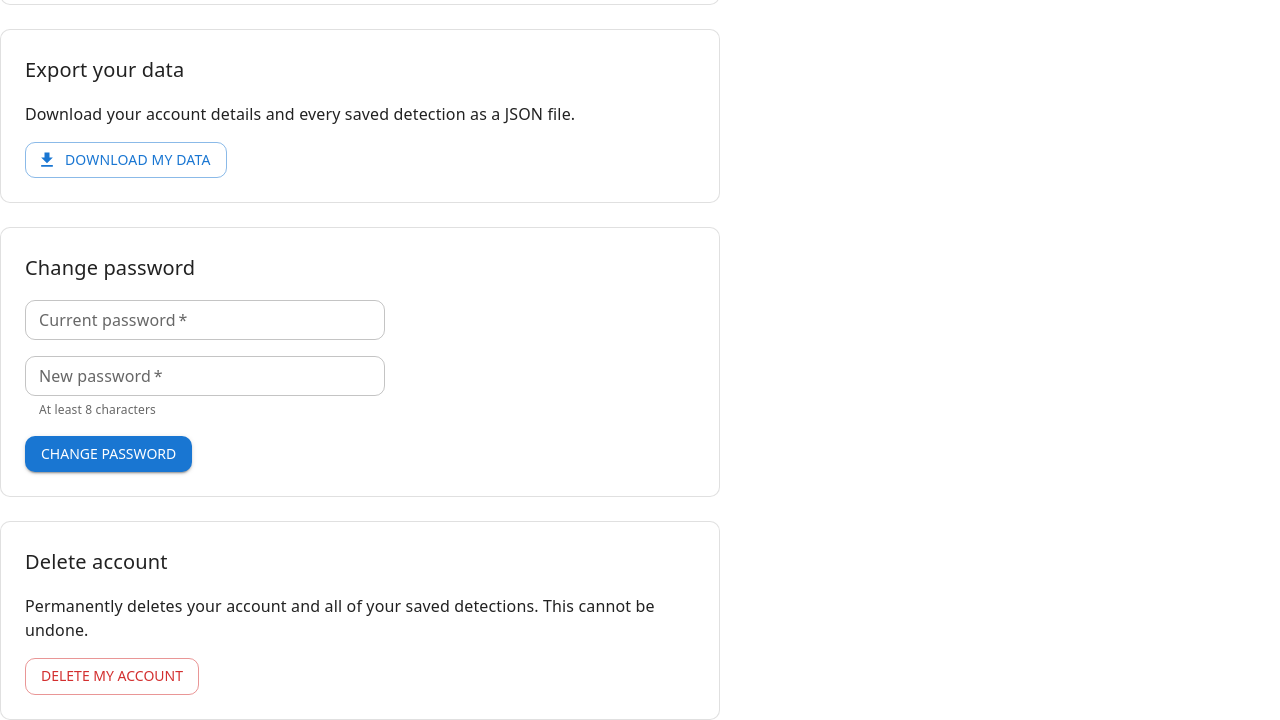
Test: AccountPage › asks for the password before deleting the account
(page scrolled)
Click the button "Delete my account": (112, 677) x1=25 y1=658 x2=199 y2=695
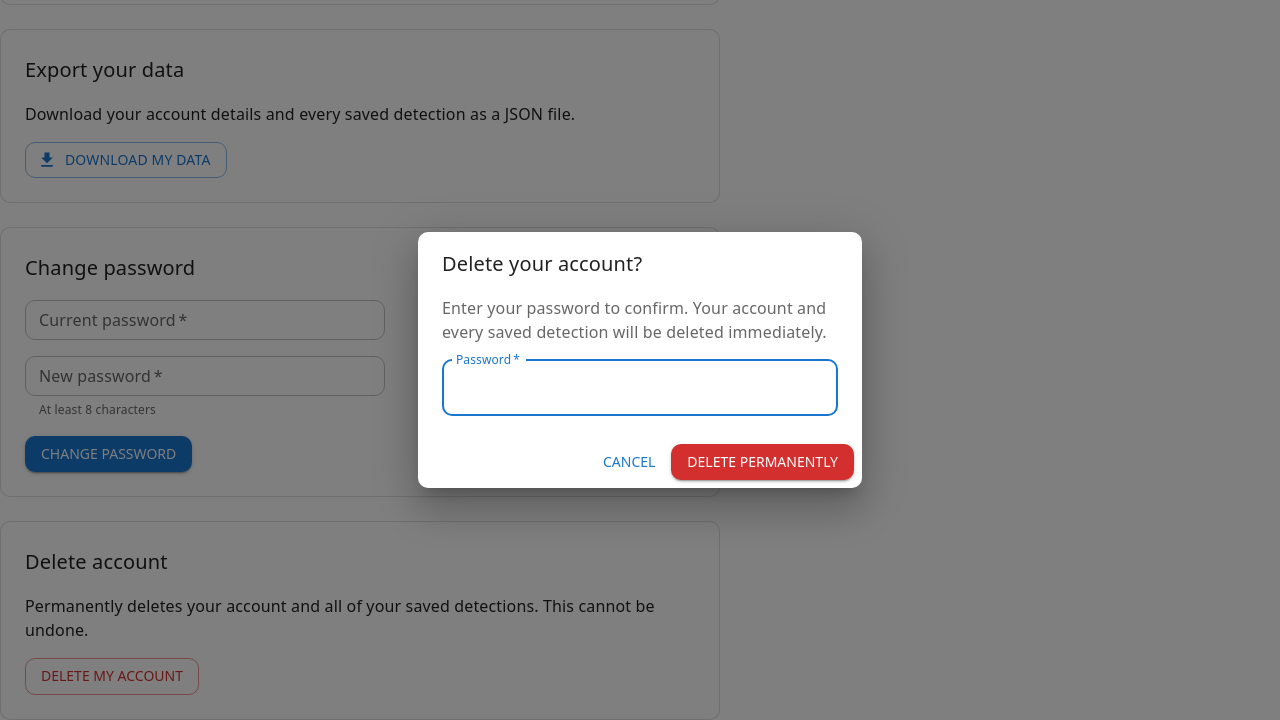
In the password field labelled "Password *": (640, 388) x1=442 y1=360 x2=838 y2=416, type "wrong"
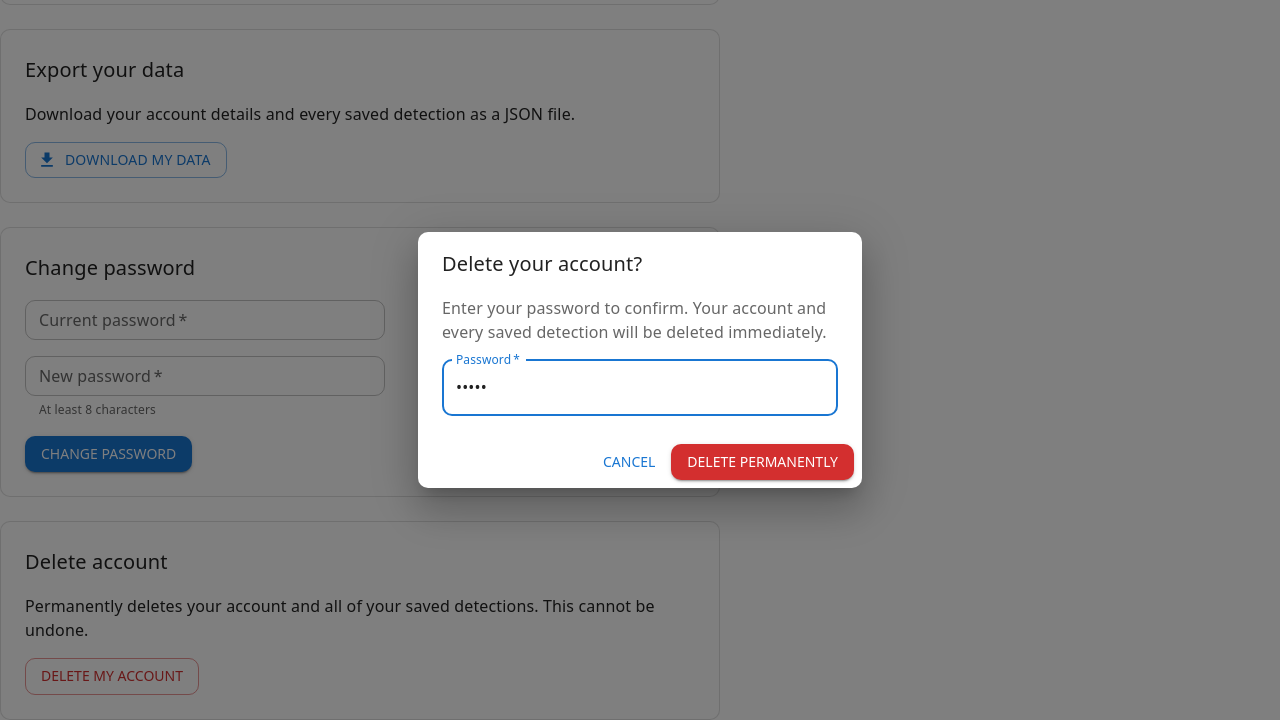
Click the button "Delete permanently": (763, 462) x1=671 y1=444 x2=854 y2=480
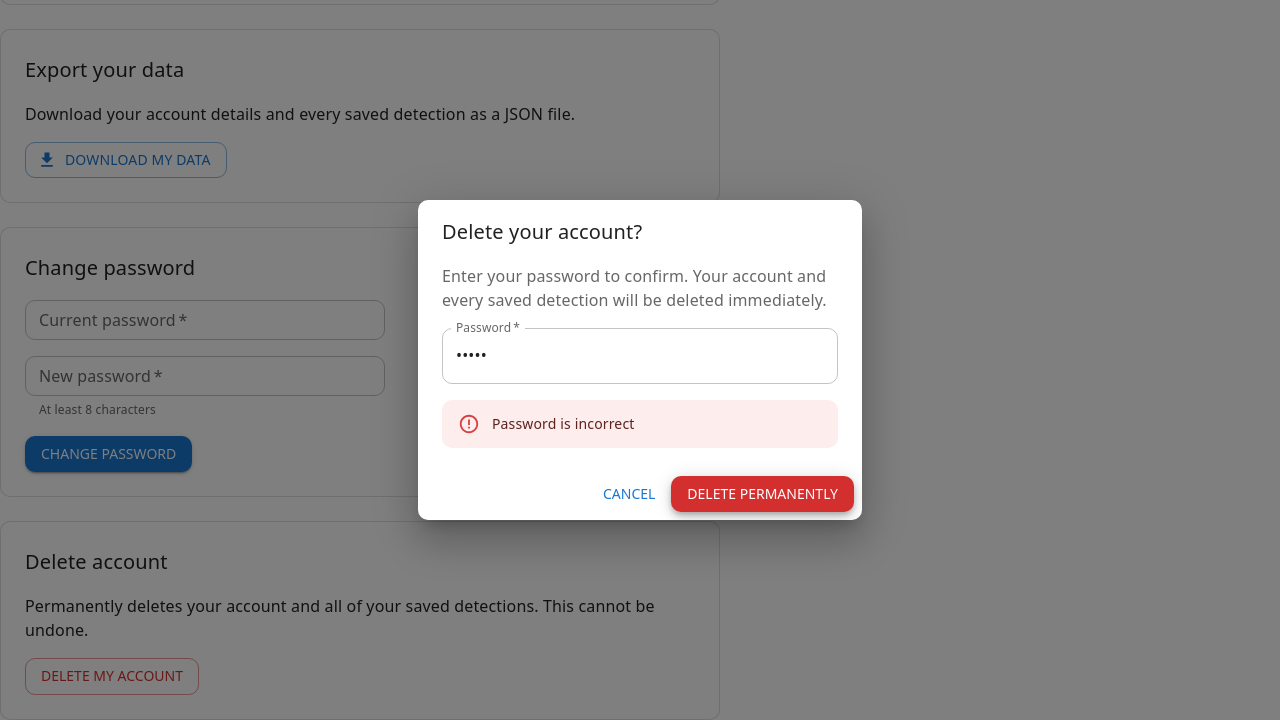
Now the text "Password is incorrect" is shown, box x1=492 y1=414 x2=634 y2=433
